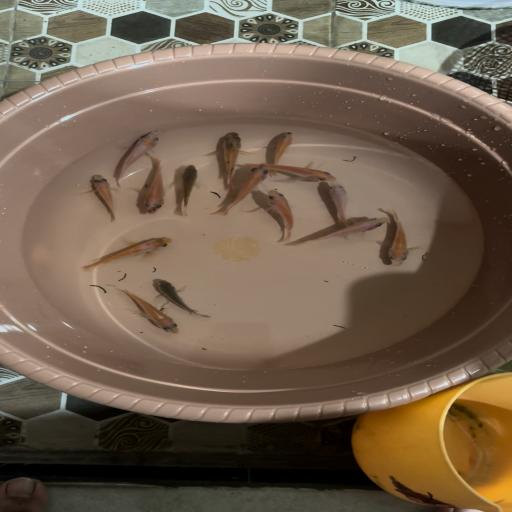nila: (73, 233, 176, 274), (298, 214, 388, 256), (102, 289, 180, 336), (110, 124, 167, 188), (212, 164, 277, 215), (369, 204, 418, 268), (204, 126, 253, 184), (131, 158, 177, 217), (72, 173, 126, 223), (254, 189, 305, 241), (145, 280, 215, 316), (257, 160, 342, 187), (313, 182, 368, 223), (168, 164, 206, 218), (260, 129, 305, 164)
